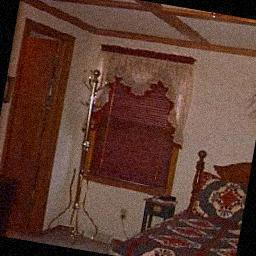Otro Obstaculo: (52, 66, 120, 240)
Puerta: (0, 39, 61, 226)
